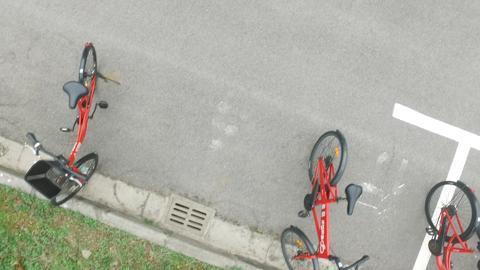bike: (42, 56, 131, 226), (288, 128, 358, 270), (410, 171, 471, 262)
